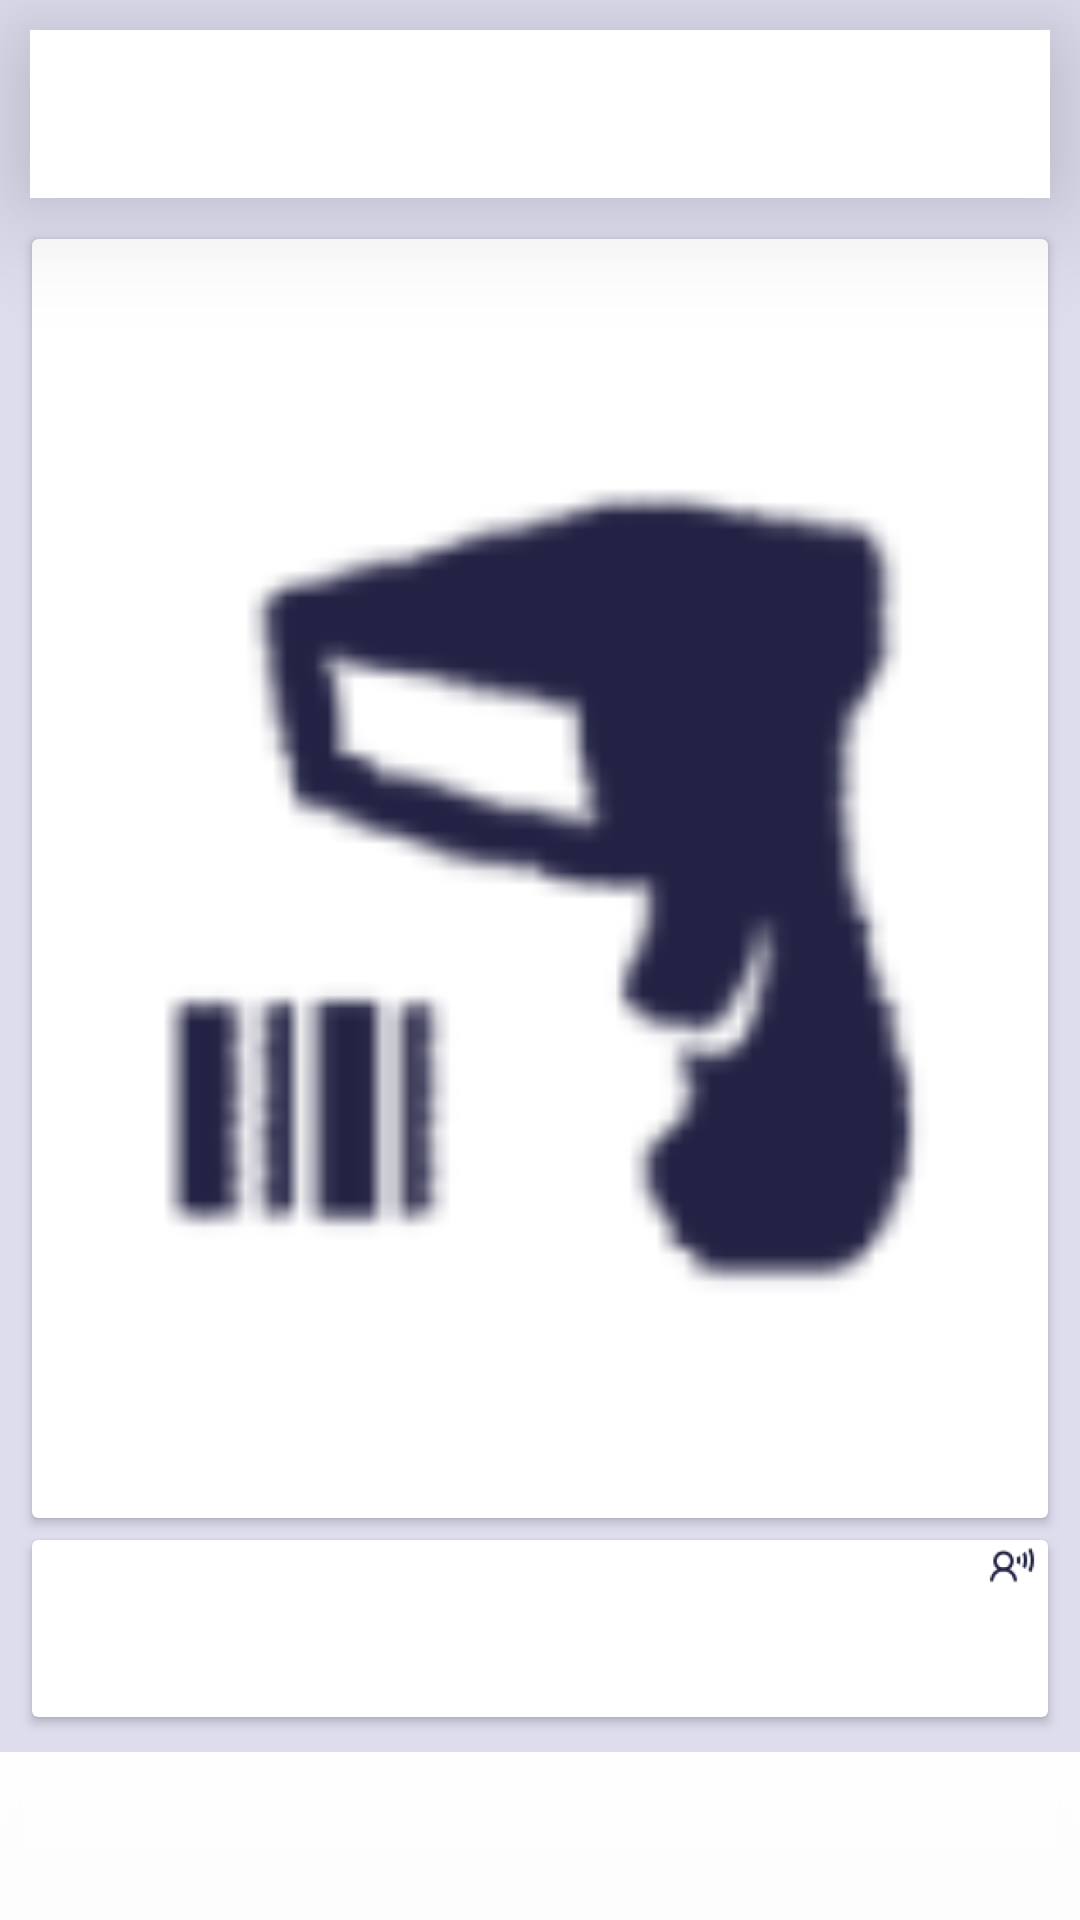

Where icons sit on this 1080×1920 app screen, as [x1, y1, x2, y2]:
narrador: [989, 1548, 1035, 1582]
